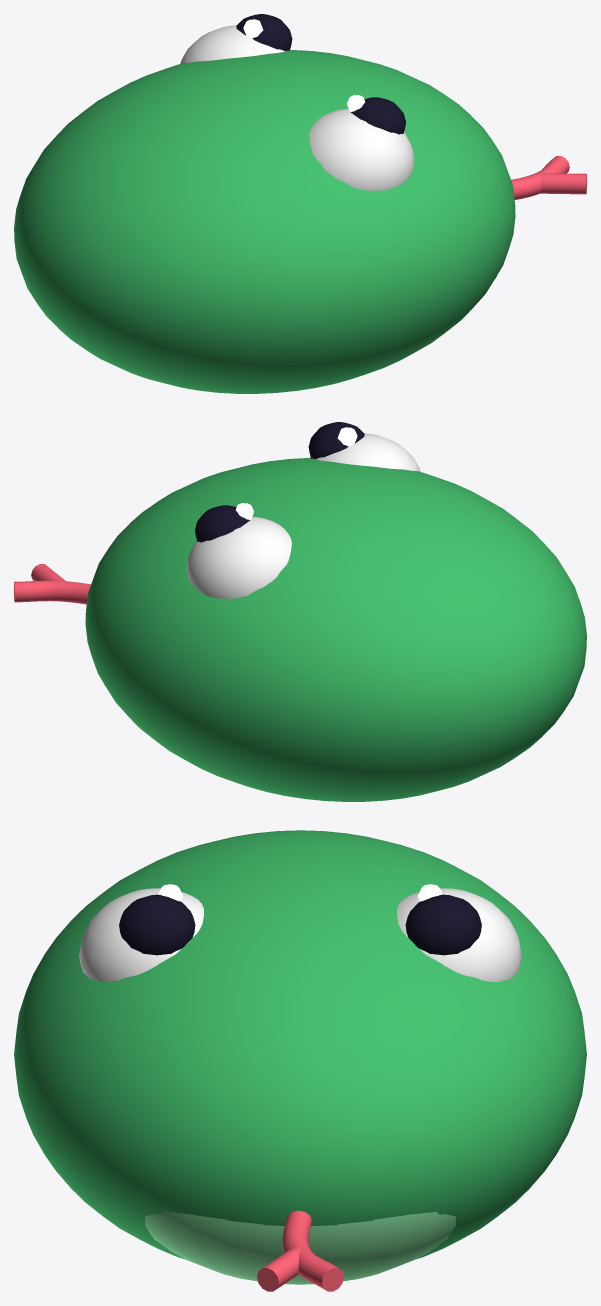
Rendered from hlava.glb.
The picture shows the model from 3 angles, top to bottom: view 1: azimuth 30°, elevation 25°; view 2: azimuth 150°, elevation 25°; view 3: azimuth 270°, elevation 25°; orthographic projection. The views are drawn at different scales.
Parts seen in each view (by area): view 1: had_hlava_m, had_oko_-1, had_oko_1, had_zornice_-1, had_zornice_1, had_jazyk, had_jazyk_b; view 2: had_hlava_m, had_oko_1, had_oko_-1, had_jazyk, had_zornice_1, had_zornice_-1; view 3: had_hlava_m, had_cumak, had_oko_1, had_oko_-1, had_zornice_-1, had_zornice_1, had_jazyk, had_jazyk_b.
Boxes of the visible parts, bbox=[...] form: had_hlava_m: bbox=[14, 50, 515, 393]; had_oko_-1: bbox=[309, 108, 414, 190]; had_oko_1: bbox=[180, 25, 290, 63]; had_zornice_-1: bbox=[351, 97, 405, 134]; had_zornice_1: bbox=[236, 14, 292, 51]; had_jazyk: bbox=[511, 156, 569, 199]; had_jazyk_b: bbox=[538, 173, 586, 194]; had_hlava_m: bbox=[85, 458, 586, 801]; had_oko_1: bbox=[186, 516, 291, 598]; had_oko_-1: bbox=[310, 433, 420, 471]; had_jazyk: bbox=[14, 580, 90, 604]; had_zornice_1: bbox=[195, 505, 249, 542]; had_zornice_-1: bbox=[308, 422, 364, 459]; had_hlava_m: bbox=[14, 830, 586, 1258]; had_cumak: bbox=[145, 1212, 455, 1284]; had_oko_1: bbox=[397, 888, 521, 981]; had_oko_-1: bbox=[79, 888, 203, 981]; had_zornice_-1: bbox=[119, 894, 195, 955]; had_zornice_1: bbox=[405, 894, 481, 955]; had_jazyk: bbox=[282, 1210, 343, 1291]; had_jazyk_b: bbox=[257, 1246, 300, 1291].
Bounding box in the file's own units: 1.2 × 0.63 × 0.88.
